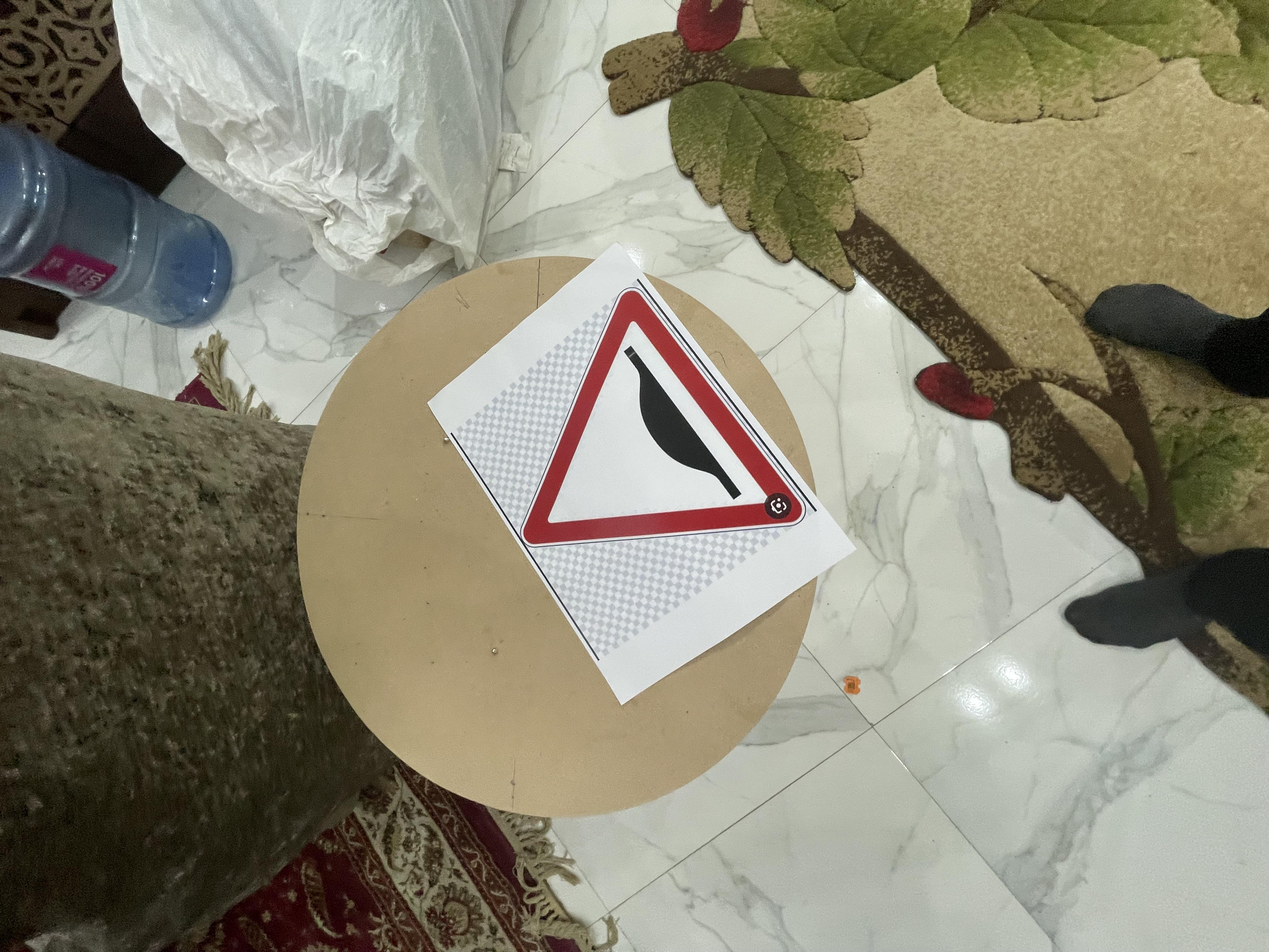Hump: (519, 383, 878, 606)
